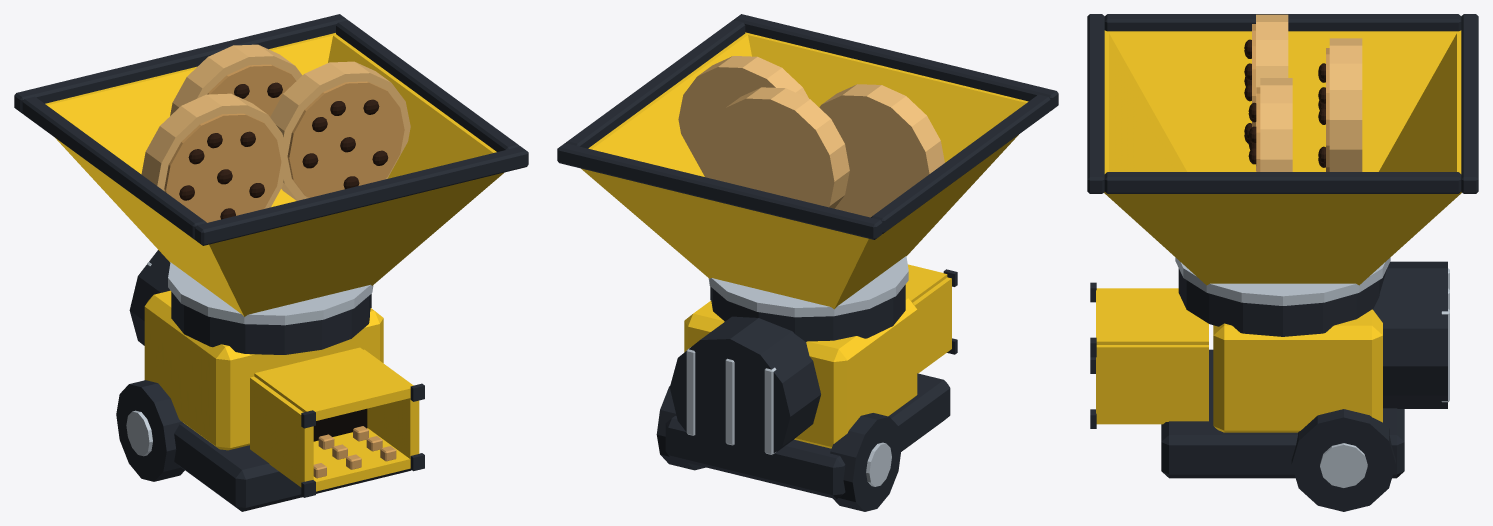
Rendered from CookieCrumbler.glb.
3 renders of one model, left to right at view 1: azimuth 30°, elevation 25°; view 2: azimuth 150°, elevation 25°; view 3: azimuth 270°, elevation 25°, orthographic. The views are drawn at different scales.
Visible parts, largest first — view 1: CookieCrumbler; view 2: CookieCrumbler; view 3: CookieCrumbler.
Part boxes in pixels (bbox=[...]): CookieCrumbler: bbox=[14, 14, 528, 511]; CookieCrumbler: bbox=[557, 14, 1058, 511]; CookieCrumbler: bbox=[1087, 14, 1478, 511].
Size of the model in its own units: 0.8531 by 1 by 0.8531.
